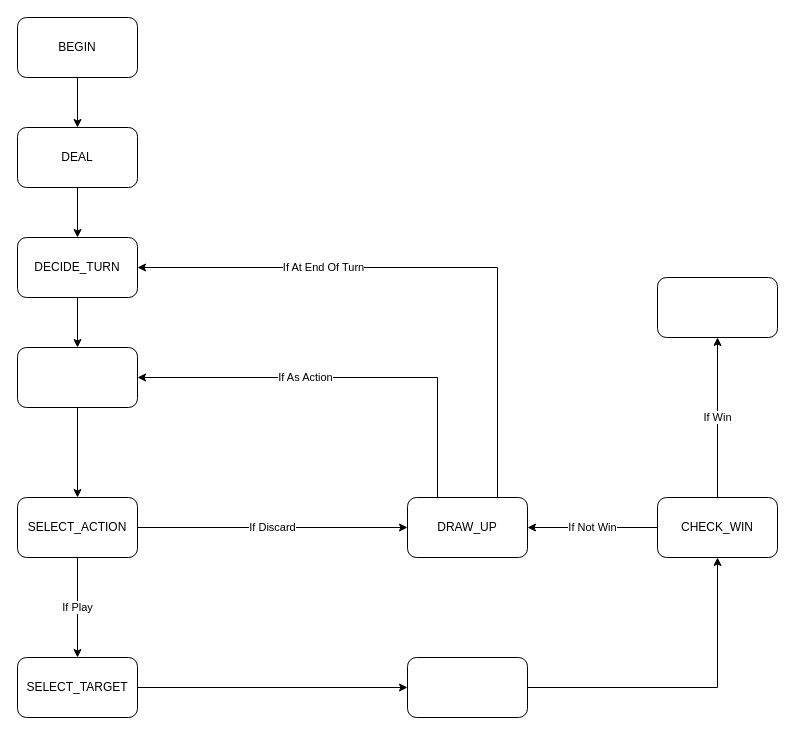
Image size: 795x735. Some labels were removed from this diagram. The shapes that lost their labels are listed below. From the top down, each one's centre as x and y in pixels, then its label:
At [717,307]: "END".
At [77,377]: "SELECT_CARD".
At [467,687]: "RESOLVE_EFFECT".
